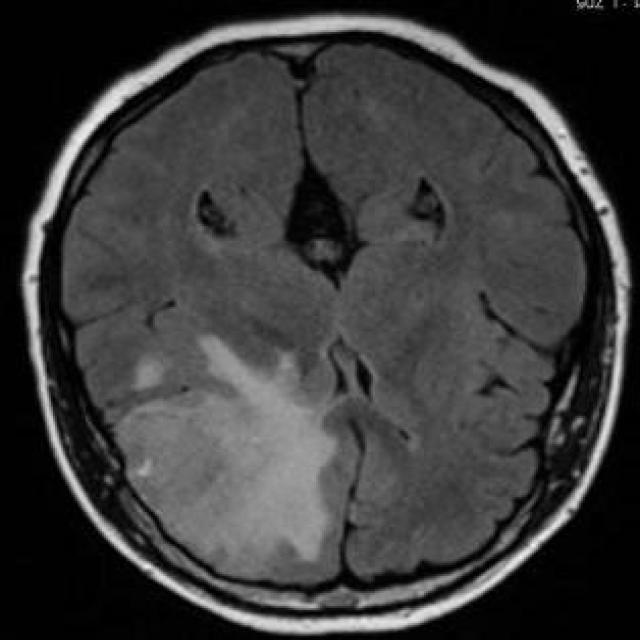Tumor-Cell: (96, 360, 360, 560)
